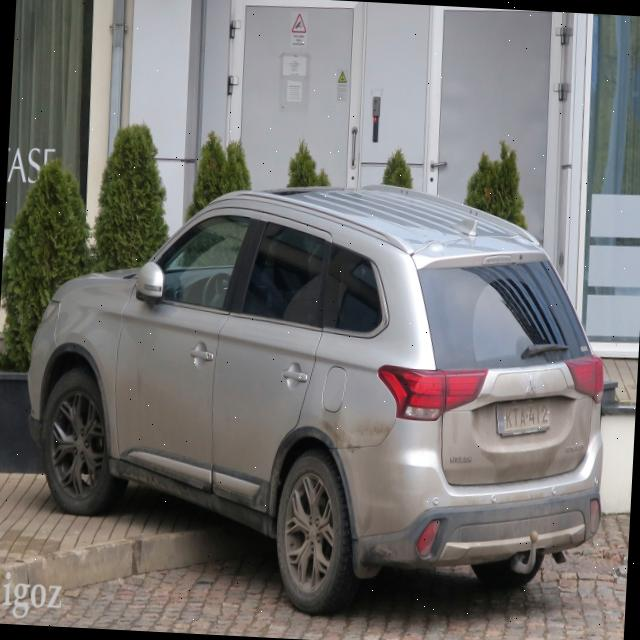License-plate: (496, 394, 553, 441)
